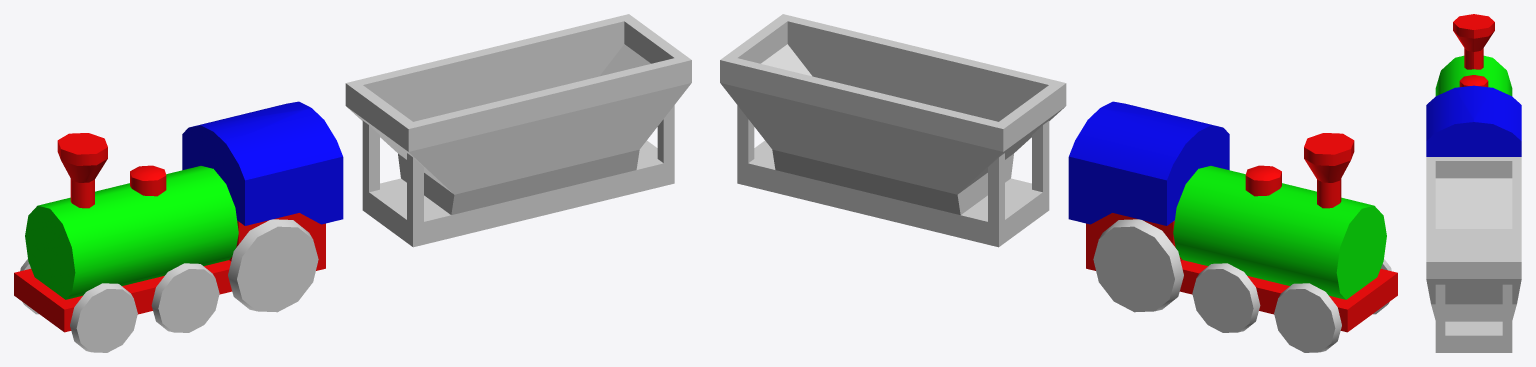
The model's file is engine.fbx.
The picture shows the model from 3 angles, left to right: view 1: azimuth 30°, elevation 25°; view 2: azimuth 150°, elevation 25°; view 3: azimuth 270°, elevation 25°; orthographic projection. The views are drawn at different scales.
Visible parts, largest first — view 1: Hopper, Engine, RearWheels, FrontWheels, MiddleWheels; view 2: Hopper, Engine, RearWheels, FrontWheels, MiddleWheels; view 3: Hopper, Engine.
Boxes of the visible parts, left/top/right/bottom form: Hopper: left=345, top=14, right=691, bottom=247; Engine: left=14, top=101, right=343, bottom=332; RearWheels: left=228, top=219, right=318, bottom=312; FrontWheels: left=20, top=259, right=137, bottom=352; MiddleWheels: left=151, top=263, right=219, bottom=332; Hopper: left=720, top=14, right=1066, bottom=247; Engine: left=1068, top=101, right=1397, bottom=332; RearWheels: left=1093, top=219, right=1183, bottom=312; FrontWheels: left=1274, top=259, right=1391, bottom=352; MiddleWheels: left=1192, top=263, right=1260, bottom=332; Hopper: left=1426, top=157, right=1521, bottom=352; Engine: left=1426, top=14, right=1521, bottom=156.
Size of the model in its own units: 178 by 51.56 by 31.25.
